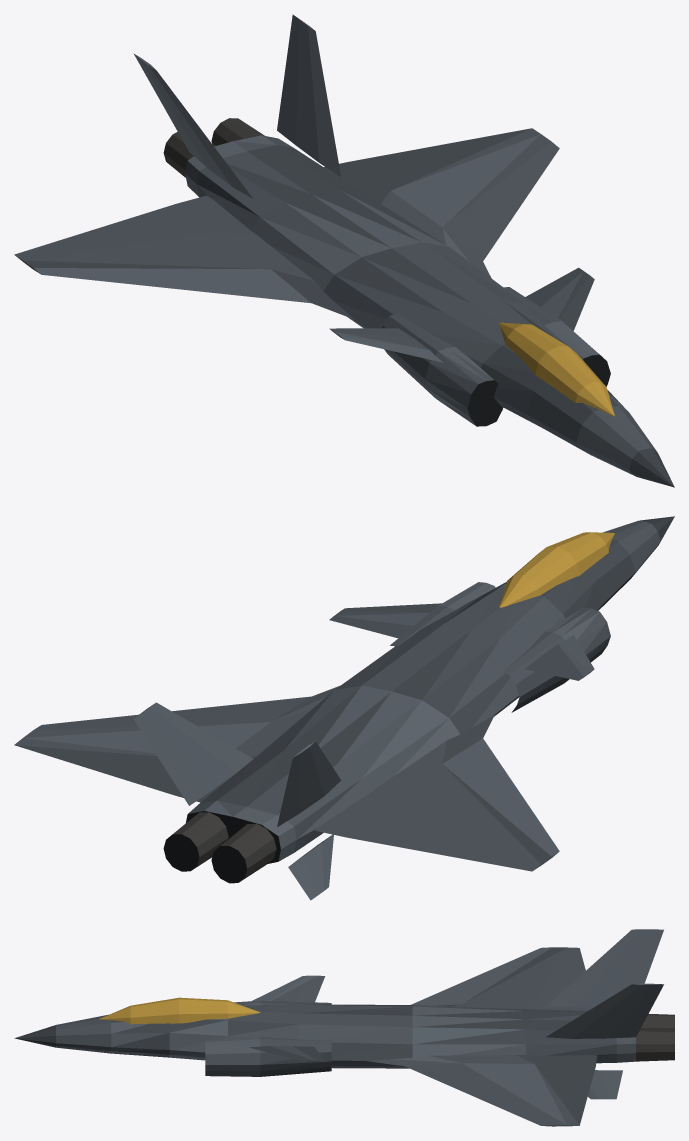
3 views of the same model, one above another, from view 1: azimuth 30°, elevation 25°; view 2: azimuth 150°, elevation 25°; view 3: azimuth 270°, elevation 25° (orthographic). The views are drawn at different scales.
Visible parts, largest first — view 1: sy26; view 2: sy26; view 3: sy26.
Boxes of the visible parts, x1,y1,x2,y2 form: sy26: [14, 14, 674, 487]; sy26: [14, 516, 674, 900]; sy26: [14, 929, 674, 1126].
Bounding box in the file's own units: 13 × 4.12 × 20.4.
